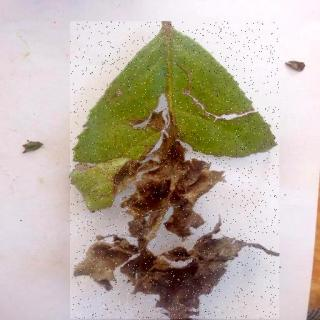Brown Blight: (71, 23, 281, 320)
